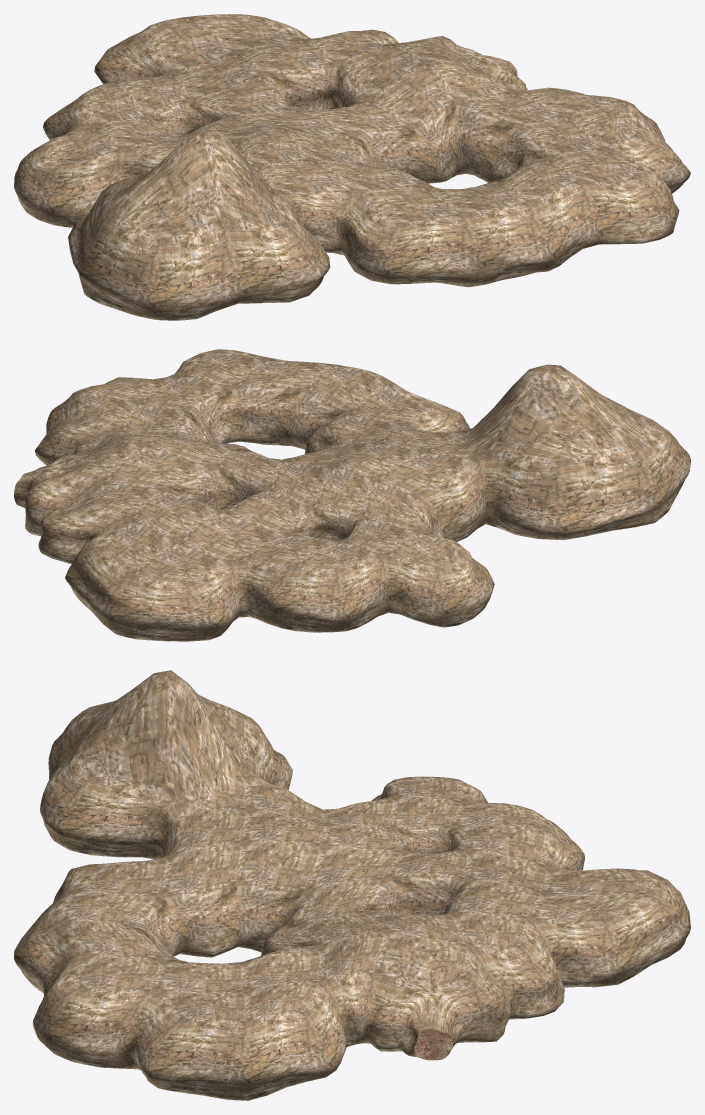
File: thm_tato_cave_s02_r12_roomab_mesh_r12.fbx
3 renders of one model, top to bottom at view 1: azimuth 30°, elevation 25°; view 2: azimuth 150°, elevation 25°; view 3: azimuth 270°, elevation 25°, orthographic. The views are drawn at different scales.
Visible parts, largest first — view 1: mesh_node; view 2: mesh_node; view 3: mesh_node.
Boxes of the visible parts, x1=… form: mesh_node: x1=14, y1=14, x2=690, y2=320; mesh_node: x1=14, y1=349, x2=690, y2=641; mesh_node: x1=14, y1=670, x2=690, y2=1100.
Size of the model in its own units: 201 by 57.67 by 183.
